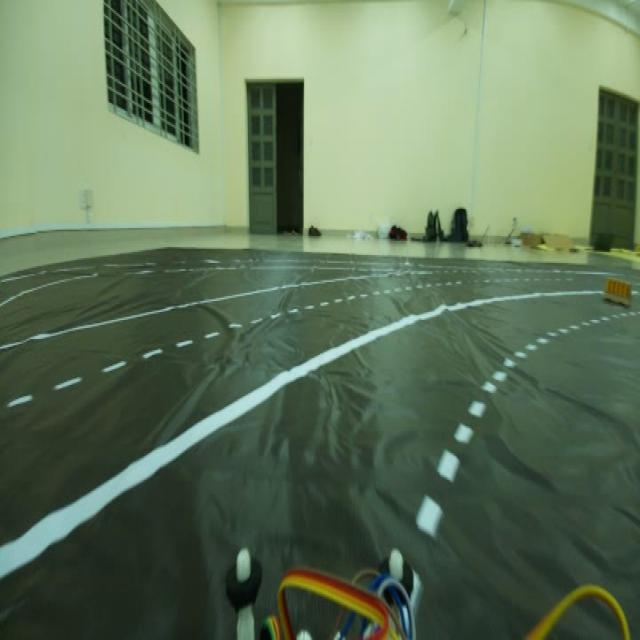roadblock: (596, 268, 632, 310)
